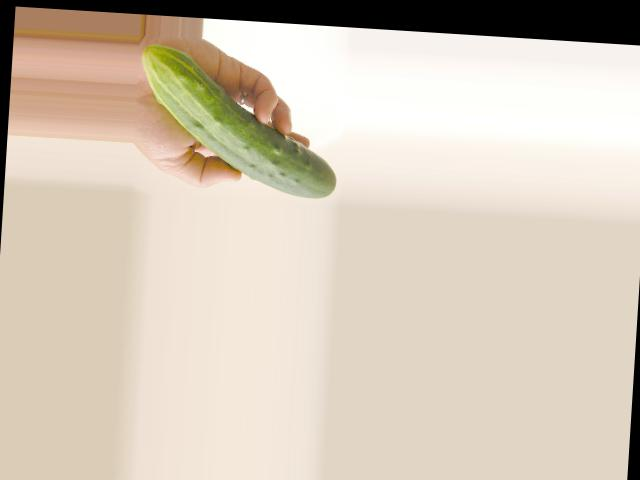cucumber: (135, 43, 344, 198)
